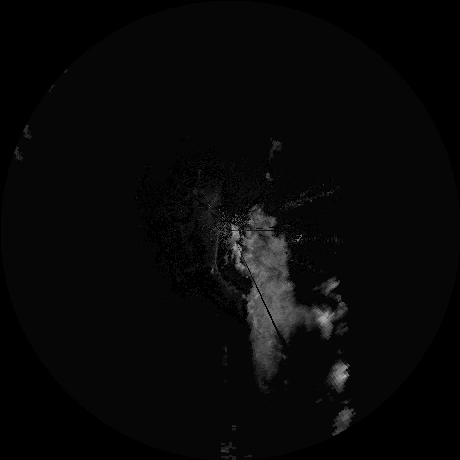frontgust: (208, 230, 224, 282)
